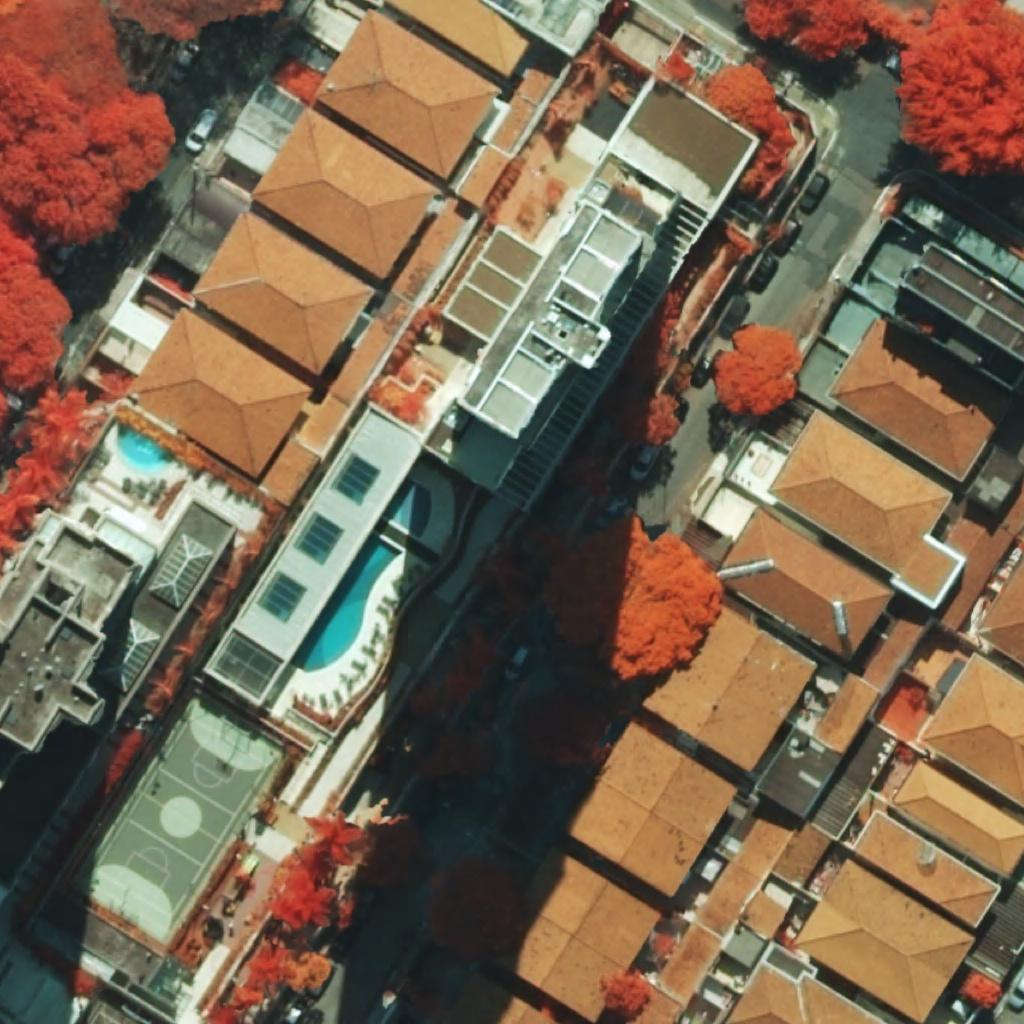pool: (289, 532, 403, 673), (383, 477, 432, 538), (117, 423, 174, 471)
